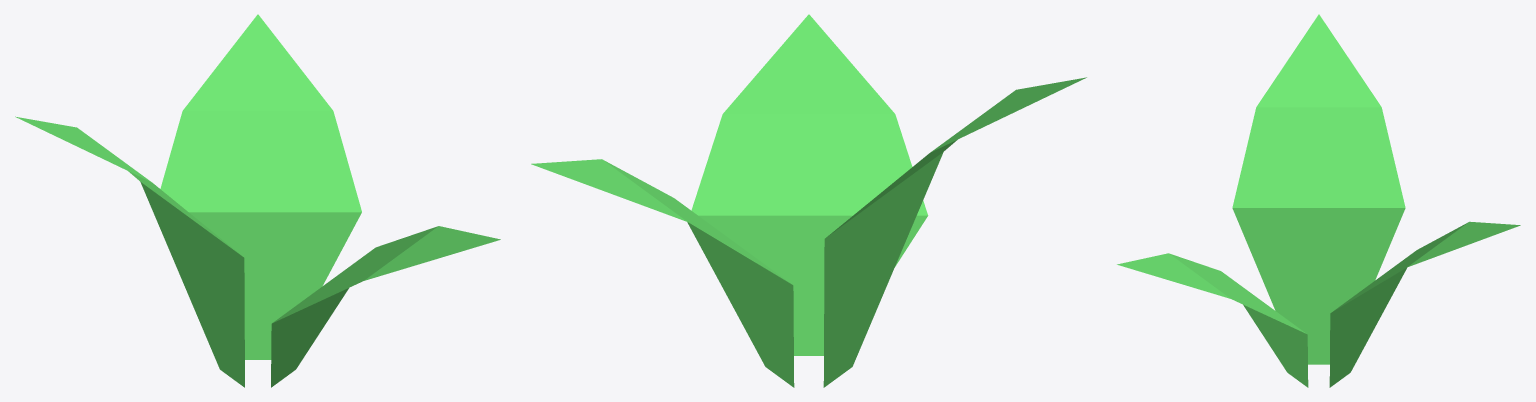
The model's file is n_plant_bushTriangle.glb.
3 views of the same model, side by side, from view 1: azimuth 30°, elevation 25°; view 2: azimuth 150°, elevation 25°; view 3: azimuth 270°, elevation 25° (orthographic). The views are drawn at different scales.
Visible parts, largest first — view 1: plant_bushTriangle; view 2: plant_bushTriangle; view 3: plant_bushTriangle.
Part boxes in pixels (<box>): plant_bushTriangle: <box>15,14,500,387</box>; plant_bushTriangle: <box>531,14,1086,387</box>; plant_bushTriangle: <box>1117,14,1520,387</box>.
Bounding box in the file's own units: 0.9865 × 0.8 × 1.12.
